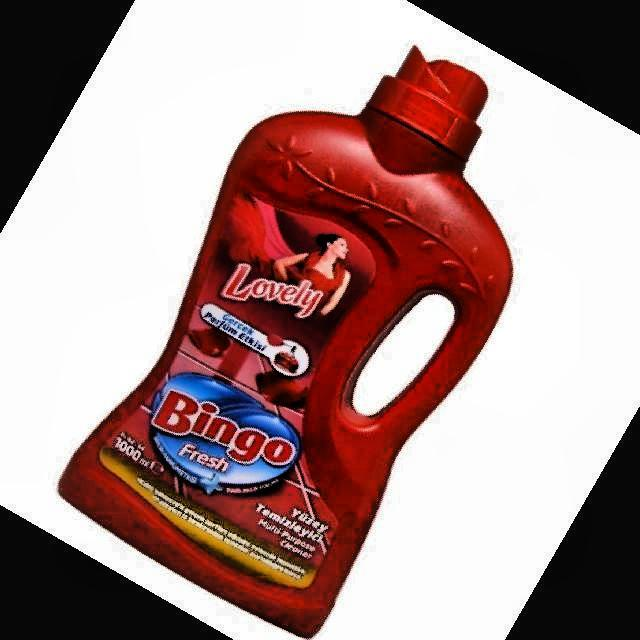plastic: (60, 48, 511, 636)
